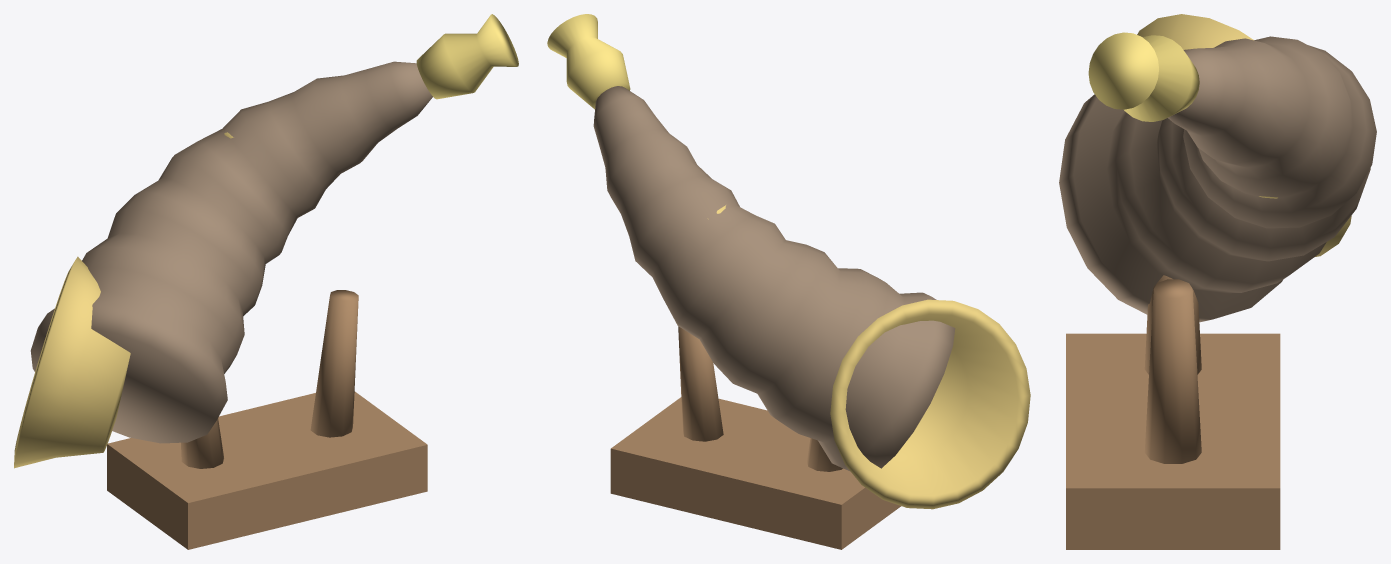
The model's file is REL_CHAMOIS.glb.
3 views of the same model, side by side, from view 1: azimuth 30°, elevation 25°; view 2: azimuth 150°, elevation 25°; view 3: azimuth 270°, elevation 25° (orthographic). The views are drawn at different scales.
Parts seen in each view (by area): view 1: HornBody, CradleBase, BrassBell, Fork0.022, BrassMouthpiece, Fork-0.022; view 2: HornBody, CradleBase, BrassBell, BrassMouthpiece, Fork0.022, Fork-0.022; view 3: HornBody, CradleBase, Fork0.022, BrassMouthpiece, BrassBell, Fork-0.022.
Boxes of the visible parts, <box> form: HornBody: <box>30,61,432,443</box>; CradleBase: <box>107,391,427,549</box>; BrassBell: <box>14,256,130,468</box>; Fork0.022: <box>310,290,358,437</box>; BrassMouthpiece: <box>416,14,518,99</box>; Fork-0.022: <box>181,418,223,468</box>; HornBody: <box>593,86,955,471</box>; CradleBase: <box>610,397,901,549</box>; BrassBell: <box>830,299,1030,509</box>; BrassMouthpiece: <box>547,14,630,109</box>; Fork0.022: <box>678,326,723,441</box>; Fork-0.022: <box>807,438,842,471</box>; HornBody: <box>1059,36,1376,322</box>; CradleBase: <box>1066,333,1280,549</box>; Fork0.022: <box>1144,279,1201,463</box>; BrassMouthpiece: <box>1088,32,1199,121</box>; BrassBell: <box>1137,14,1351,256</box>; Fork-0.022: <box>1144,275,1201,374</box>.
Size of the model in its own units: 0.1549 by 0.1299 by 0.0653.
